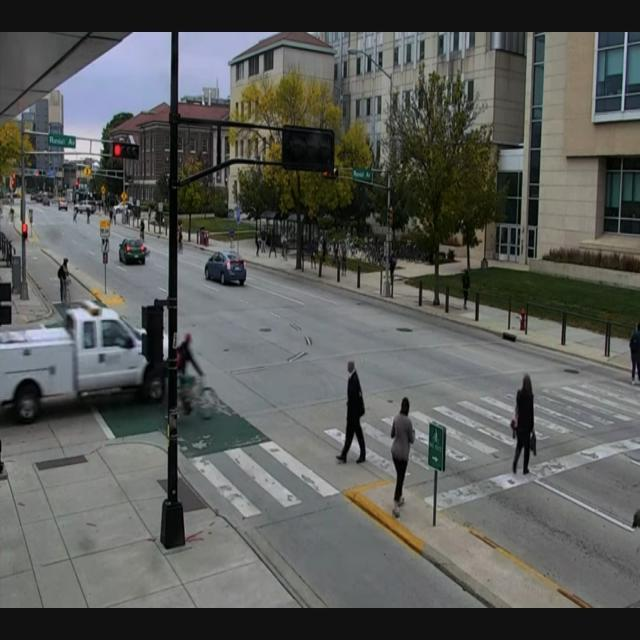Walking: (50, 226, 80, 323)
crossing: (142, 292, 241, 504), (489, 331, 585, 499), (298, 327, 374, 501), (378, 359, 436, 541)
standing: (616, 304, 640, 398)
